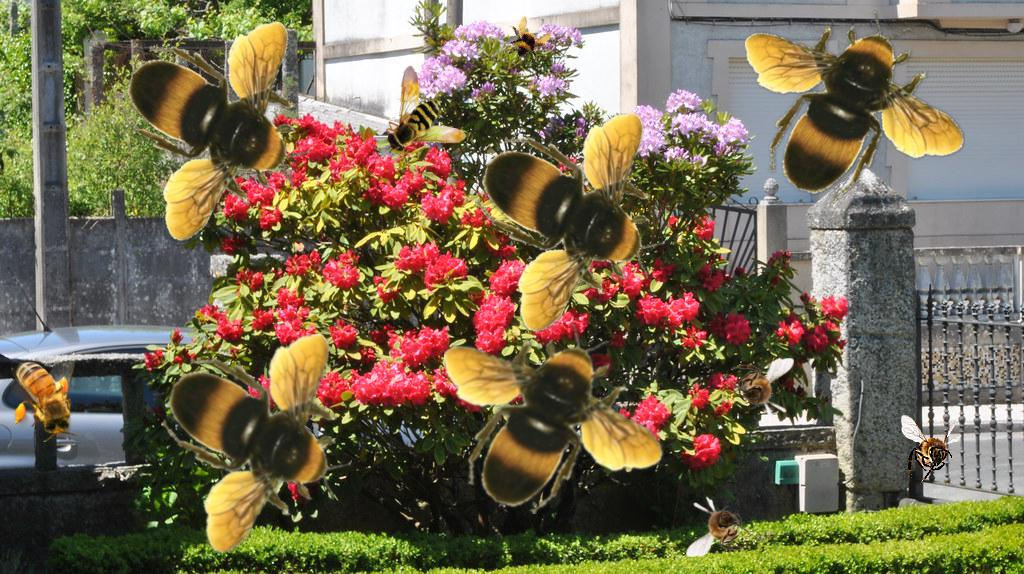Bee: (745, 10, 965, 201), (475, 113, 666, 333), (161, 334, 352, 554), (120, 22, 311, 242), (444, 323, 664, 514), (379, 61, 467, 155), (11, 349, 79, 442), (724, 358, 794, 419), (901, 415, 962, 485), (686, 496, 756, 557), (496, 11, 556, 71)
